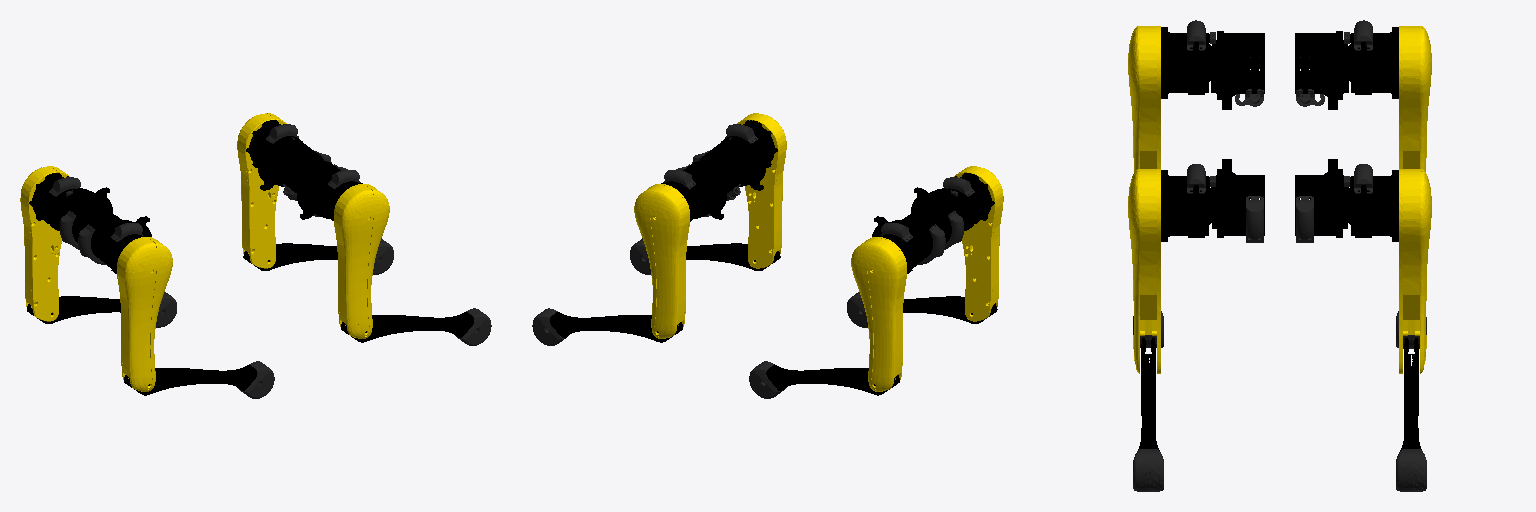
robot.urdf — JueyingMiniLite:
<?xml version="1.0" encoding="utf-8"?>
<robot name="JueyingMiniLite">
  <link name="BASE">
    <visual>
      <geometry>
        <mesh filename="../meshes/BASE.dae" />
      </geometry>
    </visual>
    <collision>
      <origin xyz="0 0 -0.004"/>
      <geometry>
        <box size="0.236 0.184 0.092"/>
      </geometry>
    </collision>
  </link>

  <joint name="Base2Iner" type="fixed">
    <origin xyz="0 0 0"/>
    <parent link="BASE" />
    <child link="BASE_INER" />
  </joint>

  <link name="BASE_INER">
    <inertial>
      <origin xyz="0.0015077 -0.0022815 0.002674"/>
      <mass value="5.6352" />
      <inertia ixx="0.0088043" ixy="5.9997E-05" ixz="0.00011144" iyy="0.01327" iyz="1.6337E-05" izz="0.018186" />
    </inertial>
  </link>

  <link name="FL_HIP">
    <inertial>
      <origin xyz="0.047924 -0.0082768 -0.00047296"/>
      <mass value="0.45879" />
      <inertia ixx="0.00014995" ixy="2.389E-07" ixz="-3.6701E-06" iyy="0.00026266" iyz="5.1131E-07" izz="0.00014535" />
    </inertial>
    <visual>
      <geometry>
        <mesh filename="../meshes/FL_HIP.dae" />
      </geometry>
    </visual>
  </link>

  <joint name="FL_HipX" type="revolute">
    <origin xyz="0.1258 0.055 0"/>
    <parent link="BASE" />
    <child link="FL_HIP" />
    <axis xyz="1 0 0" />
    <limit lower="-0.523" upper="0.523" effort="13.2" velocity="20" />
    <dynamics damping="0" friction="0" />
  </joint>

  <link name="FL_THIGH">
    <inertial>
      <origin xyz="-0.0014025 -0.025622 -0.015888"/>
      <mass value="0.55479" />
      <inertia ixx="0.00067595" ixy="-4.7781E-07" ixz="-4.0151E-05" iyy="0.0008367" iyz="1.343E-07" izz="0.00020884" />
    </inertial>
    <visual>
      <geometry>
        <mesh filename="../meshes/L_THIGH.dae" />
      </geometry>
    </visual>
    <collision>
      <origin xyz="0 0 -0.068"/>
      <geometry>
        <box size="0.07 0.04 0.216"/>
      </geometry>
    </collision>
  </link>

  <joint name="FL_HipY" type="revolute">
    <origin xyz="0.0492 0.080898 0"/>
    <parent link="FL_HIP" />
    <child link="FL_THIGH" />
    <axis xyz="0 -1 0" />
    <limit lower="-3.49" upper="0.349" effort="13.2" velocity="20" />
    <dynamics damping="0" friction="0" />
  </joint>

  <link name="FL_SHANK">
    <inertial>
      <origin xyz="-6.0267E-05 -1.0179E-06 -0.1281"/>
      <mass value="0.08" />
      <inertia ixx="0.00022857" ixy="2.2816E-09" ixz="2.1021E-06" iyy="0.00023367" iyz="6.8779E-08" izz="1.1919E-05" />
    </inertial>
    <visual>
      <geometry>
        <mesh filename="../meshes/SHANK.dae" />
      </geometry>
    </visual>
  </link>

  <joint name="FL_Knee" type="revolute">
    <origin xyz="0 0 -0.18"/>
    <parent link="FL_THIGH" />
    <child link="FL_SHANK" />
    <axis xyz="0 -1 0" />
    <limit lower="0.3" upper="2.44" effort="28" velocity="20" />
    <dynamics damping="0" friction="0" />
  </joint>

  <link name="FL_FOOT">
    <inertial>
      <mass value="1e-9" />
      <inertia ixx="1e-12" ixy="0" ixz="0" iyy="1e-12" iyz="0" izz="1E-12" />
    </inertial>
    <collision>
      <geometry>
        <sphere radius="0.02"/>
      </geometry>
    </collision>
  </link>

  <joint name="FL_Ankle" type="fixed">
    <origin xyz="0 0 -0.18"/>
    <parent link="FL_SHANK" />
    <child link="FL_FOOT" />
  </joint>

  <link name="FR_HIP">
    <inertial>
      <origin xyz="0.047946 0.0076001 -0.00048875"/>
      <mass value="0.45879" />
      <inertia ixx="0.00014971" ixy="-3.5222E-07" ixz="-3.7452E-06" iyy="0.00026266" iyz="-4.2732E-07" izz="0.00014559" />
    </inertial>
    <visual>
      <geometry>
        <mesh filename="../meshes/FR_HIP.dae" />
      </geometry>
    </visual>
  </link>

  <joint name="FR_HipX" type="revolute">
    <origin xyz="0.1258 -0.055 0"/>
    <parent link="BASE" />
    <child link="FR_HIP" />
    <axis xyz="-1 0 0" />
    <limit lower="-0.523" upper="0.523" effort="13.2" velocity="20" />
    <dynamics damping="0" friction="0" />
  </joint>

  <link name="FR_THIGH">
    <inertial>
      <origin xyz="-0.0013962 0.025621 -0.015879"/>
      <mass value="0.55481" />
      <inertia ixx="0.00067596" ixy="4.4371E-07" ixz="-4.0135E-05" iyy="0.00083679" iyz="-1.6601E-07" izz="0.00020893" />
    </inertial>
    <visual>
      <geometry>
        <mesh filename="../meshes/R_THIGH.dae" />
      </geometry>
      
    </visual>
    <collision>
      <origin xyz="0 0 -0.068"/>
      <geometry>
        <!-- <mesh filename="../meshes/THIGH_C.obj" /> -->
        <box size="0.07 0.04 0.216"/>
      </geometry>
    </collision>
  </link>

  <joint name="FR_HipY" type="revolute">
    <origin xyz="0.0492 -0.080898 0"/>
    <parent link="FR_HIP" />
    <child link="FR_THIGH" />
    <axis xyz="0 -1 0" />
    <limit lower="-3.49" upper="0.349" effort="13.2" velocity="20" />
    <dynamics damping="0" friction="0" />
  </joint>

  <link name="FR_SHANK">
    <inertial>
      <origin xyz="-6.0267E-05 -1.0179E-06 -0.1281"/>
      <mass value="0.08" />
      <inertia ixx="0.00022857" ixy="2.2816E-09" ixz="2.1021E-06" iyy="0.00023367" iyz="6.8779E-08" izz="1.1919E-05" />
    </inertial>
    <visual>
      <geometry>
        <mesh filename="../meshes/SHANK.dae" />
      </geometry>
    </visual>
  </link>

  <joint name="FR_Knee" type="revolute">
    <origin xyz="0 0 -0.18"/>
    <parent link="FR_THIGH" />
    <child link="FR_SHANK" />
    <axis xyz="0 -1 0" />
    <limit lower="0.3" upper="2.44" effort="28" velocity="20" />
    <dynamics damping="0" friction="0" />
  </joint>

  <link name="FR_FOOT">
    <inertial>
      <mass value="1e-9" />
      <inertia ixx="1e-12" ixy="0" ixz="0" iyy="1e-12" iyz="0" izz="1E-12" />
    </inertial>
    <collision>
      <geometry>
        <sphere radius="0.02"/>
      </geometry>
    </collision>
  </link>

  <joint name="FR_Ankle" type="fixed">
    <origin xyz="0 0 -0.18"/>
    <parent link="FR_SHANK" />
    <child link="FR_FOOT" />
  </joint>

  <link name="HL_HIP">
    <inertial>
      <origin xyz="-0.047923 -0.0082768 -0.00047295"/>
      <mass value="0.45879" />
      <inertia ixx="0.00014995" ixy="-2.3272E-07" ixz="3.6331E-06" iyy="0.00026266" iyz="5.1134E-07" izz="0.00014535" />
    </inertial>
    <visual>
      <geometry>
        <mesh filename="../meshes/HL_HIP.dae" />
      </geometry>
    </visual>
  </link>

  <joint name="HL_HipX" type="revolute">
    <origin xyz="-0.1258 0.055 0"/>
    <parent link="BASE" />
    <child link="HL_HIP" />
    <axis xyz="1 0 0" />
    <limit lower="-0.523" upper="0.523" effort="13.2" velocity="20" />
    <dynamics damping="0" friction="0" />
  </joint>

  <link name="HL_THIGH">
    <inertial>
      <origin xyz="-0.0015169 -0.024336 -0.016886"/>
      <mass value="0.55473" />
      <inertia ixx="0.00069602" ixy="-1.119E-06" ixz="-4.0661E-05" iyy="0.00085356" iyz="-9.551E-07" izz="0.00020592" />
    </inertial>
    <visual>
      <geometry>
        <mesh filename="../meshes/L_THIGH.dae" />
      </geometry>
    </visual>
    <collision>
      <origin xyz="0 0 -0.068"/>
      <geometry>
        <box size="0.07 0.04 0.216"/>
      </geometry>
    </collision>
  </link>

  <joint name="HL_HipY" type="revolute">
    <origin xyz="-0.0492 0.080898 0"/>
    <parent link="HL_HIP" />
    <child link="HL_THIGH" />
    <axis xyz="0 -1 0" />
    <limit lower="-3.49" upper="0.349" effort="13.2" velocity="20" />
  </joint>

  <link name="HL_SHANK">
    <inertial>
      <origin xyz="-6.0267E-05 -1.0187E-06 -0.1281"/>
      <mass value="0.08" />
      <inertia ixx="0.00022857" ixy="2.2815E-09" ixz="2.1021E-06" iyy="0.00023367" iyz="6.878E-08" izz="1.1919E-05" />
    </inertial>
    <visual>
      <geometry>
        <mesh filename="../meshes/SHANK.dae" />
      </geometry>
    </visual>
  </link>

  <joint name="HL_Knee" type="revolute">
    <origin xyz="0.00026392 0 -0.18"/>
    <parent link="HL_THIGH" />
    <child link="HL_SHANK" />
    <axis xyz="0 -1 0" />
    <limit lower="0.3" upper="2.44" effort="28" velocity="20" />
    <dynamics damping="0" friction="0" />
  </joint>

  <link name="HL_FOOT">
    <inertial>
      <mass value="1e-9" />
      <inertia ixx="1e-12" ixy="0" ixz="0" iyy="1e-12" iyz="0" izz="1E-12" />
    </inertial>
    <collision>
      <geometry>
        <sphere radius="0.02"/>
      </geometry>
    </collision>
  </link>

  <joint name="HL_Ankle" type="fixed">
    <origin xyz="0 0 -0.18"/>
    <parent link="HL_SHANK" />
    <child link="HL_FOOT" />
  </joint>

  <link name="HR_HIP">
    <inertial>
      <origin xyz="-0.047901 0.0076001 -0.00049122"/>
      <mass value="0.45879" />
      <inertia ixx="0.0001497" ixy="1.1564E-07" ixz="3.5848E-06" iyy="0.00026266" iyz="-4.1425E-07" izz="-4.1425E-07" />
    </inertial>
    <visual>
      <geometry>
        <mesh filename="../meshes/HR_HIP.dae" />
      </geometry>
    </visual>
  </link>

  <joint name="HR_HipX" type="revolute">
    <origin xyz="-0.1258 -0.055 0"/>
    <parent link="BASE" />
    <child link="HR_HIP" />
    <axis xyz="-1 0 0" />
    <limit lower="-0.523" upper="0.523" effort="13.2" velocity="20" />
    <dynamics damping="0" friction="0" />
  </joint>

  <link name="HR_THIGH">
    <inertial>
      <origin xyz="-0.0015162 0.024338 -0.016895"/>
      <mass value="0.5547" />
      <inertia ixx="0.00069564" ixy="9.4777E-07" ixz="-4.1533E-05" iyy="0.0008535" iyz="1.0433E-06" izz="0.00020623" />
    </inertial>
    <visual>
      <geometry>
        <mesh filename="../meshes/R_THIGH.dae" />
      </geometry>
    </visual>
    <collision>
      <origin xyz="0 0 -0.068"/>
      <geometry>
        <!-- <mesh filename="../meshes/THIGH_C.obj" /> -->
        <box size="0.07 0.04 0.216"/>
      </geometry>
    </collision>
  </link>

  <joint name="HR_HipY" type="revolute">
    <origin xyz="-0.0492 -0.080898 0"/>
    <parent link="HR_HIP" />
    <child link="HR_THIGH" />
    <axis xyz="0 -1 0" />
    <limit lower="-3.49" upper="0.349" effort="13.2" velocity="20" />
    <dynamics damping="0" friction="0" />
  </joint>

  <link name="HR_SHANK">
    <inertial>
      <origin xyz="-6.0267E-05 -1.0179E-06 -0.1281"/>
      <mass value="0.08" />
      <inertia ixx="0.00022857" ixy="2.2816E-09" ixz="2.1021E-06" iyy="0.00023367" iyz="6.8779E-08" izz="1.1919E-05" />
    </inertial>
    <visual>
      <geometry>
        <mesh filename="../meshes/SHANK.dae" />
      </geometry>
    </visual>
  </link>

  <joint name="HR_Knee" type="revolute">
    <origin xyz="0 0 -0.18"/>
    <parent link="HR_THIGH" />
    <child link="HR_SHANK" />
    <axis xyz="0 -1 0" />
    <limit lower="0.3" upper="2.44" effort="28" velocity="20" />
    <dynamics damping="0" friction="0" />
  </joint>

  <link name="HR_FOOT">
    <inertial>
      <mass value="1e-9" />
      <inertia ixx="1e-12" ixy="0" ixz="0" iyy="1e-12" iyz="0" izz="1E-12" />
    </inertial>
    <collision>
      <geometry>
        <sphere radius="0.02"/>
      </geometry>
    </collision>
  </link>

  <joint name="HR_Ankle" type="fixed">
    <origin xyz="0 0 -0.18"/>
    <parent link="HR_SHANK" />
    <child link="HR_FOOT" />
  </joint>

</robot>

--- What the picture shows (computed from the rendered views, not written in the file) ---
Views: 3 orthographic renders of the robot side by side, from view 1: azimuth 30°, elevation 25°; view 2: azimuth 150°, elevation 25°; view 3: azimuth 270°, elevation 25°.
Robot: JueyingMiniLite — 18 links, 17 joints (12 revolute, 5 fixed); root link BASE; default pose: joints at zero except 4 at the middle of their limits (FL_Knee = 1.37, FR_Knee = 1.37, HL_Knee = 1.37, HR_Knee = 1.37).
Links seen in each view (by area): view 1: HR_THIGH, FR_THIGH, HL_THIGH, FL_THIGH, HR_SHANK, FR_SHANK, FL_HIP, HL_HIP, FL_SHANK, HL_SHANK, HR_HIP, FR_HIP; view 2: HL_THIGH, FL_THIGH, HR_THIGH, FR_THIGH, HL_SHANK, FL_SHANK, FR_HIP, HR_HIP, FR_SHANK, HR_SHANK, HL_HIP, FL_HIP; view 3: FL_THIGH, FR_THIGH, HL_THIGH, HR_THIGH, HL_HIP, HR_HIP, FL_HIP, FR_HIP, FR_SHANK, FL_SHANK.
Boxes of the visible links, x1,y1,x2,y2 form: HR_THIGH: [103, 223, 172, 391]; FR_THIGH: [320, 170, 389, 338]; HL_THIGH: [20, 166, 80, 321]; FL_THIGH: [237, 113, 302, 268]; HR_SHANK: [124, 361, 274, 398]; FR_SHANK: [341, 308, 491, 345]; FL_HIP: [257, 136, 331, 200]; HL_HIP: [56, 187, 112, 249]; FL_SHANK: [243, 238, 393, 274]; HL_SHANK: [27, 292, 176, 327]; HR_HIP: [78, 213, 151, 264]; FR_HIP: [297, 161, 347, 219]; HL_THIGH: [851, 223, 920, 391]; FL_THIGH: [634, 170, 703, 338]; HR_THIGH: [943, 166, 1003, 321]; FR_THIGH: [721, 113, 786, 268]; HL_SHANK: [749, 361, 899, 398]; FL_SHANK: [532, 308, 682, 345]; FR_HIP: [692, 136, 766, 200]; HR_HIP: [911, 187, 967, 249]; FR_SHANK: [630, 238, 780, 274]; HR_SHANK: [847, 292, 997, 327]; HL_HIP: [872, 213, 945, 264]; FL_HIP: [676, 161, 726, 219]; FL_THIGH: [1344, 164, 1431, 373]; FR_THIGH: [1128, 164, 1215, 373]; HL_THIGH: [1344, 20, 1431, 171]; HR_THIGH: [1128, 20, 1215, 171]; HL_HIP: [1295, 31, 1348, 109]; HR_HIP: [1211, 31, 1264, 109]; FL_HIP: [1295, 159, 1348, 242]; FR_HIP: [1211, 159, 1264, 242]; FR_SHANK: [1133, 338, 1163, 491]; FL_SHANK: [1396, 338, 1426, 491].
Size in the robot's own frame: 0.5942 by 0.3139 by 0.2854 metres.
12 mesh visuals loaded from 8 distinct referenced files (7 Collada DAE); not drawn: 1 (reference not matched to a file when rendering).
